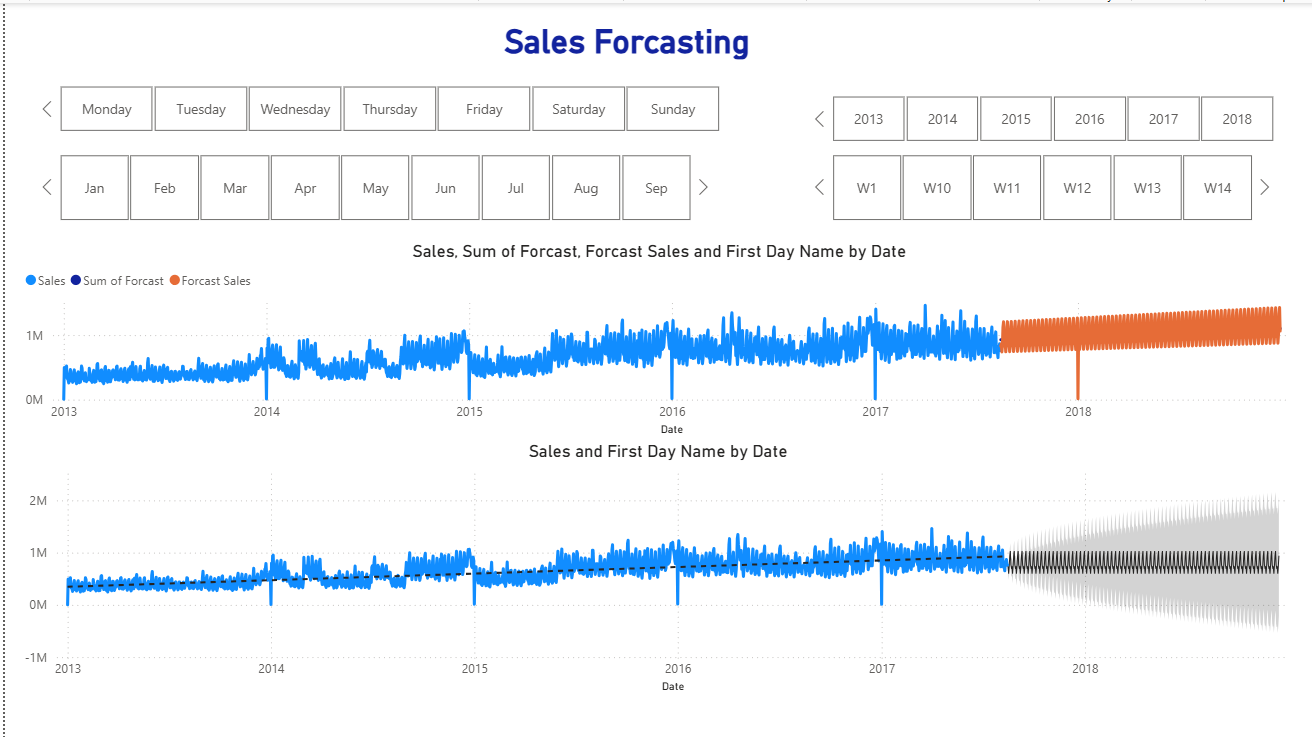

The page's visual inventory and layout, read from the dashboard file:
{"tool":"powerbi","page":{"name":"Page 1","canvas":[1280,720],"ordinal":0},"visuals":[{"type":"lineChart","fields":{"Category":["Dates.Date"],"Y":["Sales.Sales","Sum(Sales Forcast.Forcast)","Sales Forcast.Forcast Sales"]},"box":[14.7,232.3,1251,195.7],"z":0},{"type":"slicer","fields":{"Values":["Dates.YEAR"]},"box":[783.8,84.4,480.6,57.5],"z":1000},{"type":"slicer","fields":{"Values":["Dates.Month"]},"box":[28.1,141.8,666.4,77],"z":2000},{"type":"slicer","fields":{"Values":["Dates.Day Name"]},"box":[28.1,74.6,694.6,57.5],"z":3000},{"type":"slicer","fields":{"Values":["Dates.Week"]},"box":[783.8,141.8,459.8,77],"z":4000},{"type":"lineChart","fields":{"Category":["Dates.Date"],"Y":["Sales.Sales"]},"box":[13.5,428,1251,251.9],"z":6001},{"type":"textbox","title":"Sales Forcasting ","box":[179.8,18.3,857.2,41.6],"z":6002}]}

Visuals, with their boxes in screenshot pixels (x1, y1, x2, y2), scaled from the page's 1280x720 canvas onto the 1312x737 screenshot:
lineChart - Dates.Date x Sales.Sales: x1=15, y1=238, x2=1297, y2=438
slicer - Dates.YEAR: x1=803, y1=86, x2=1296, y2=145
slicer - Dates.Month: x1=29, y1=145, x2=712, y2=224
slicer - Dates.Day Name: x1=29, y1=76, x2=741, y2=135
slicer - Dates.Week: x1=803, y1=145, x2=1275, y2=224
lineChart - Dates.Date x Sales.Sales: x1=14, y1=438, x2=1296, y2=696
"Sales Forcasting " textbox: x1=184, y1=19, x2=1063, y2=61
